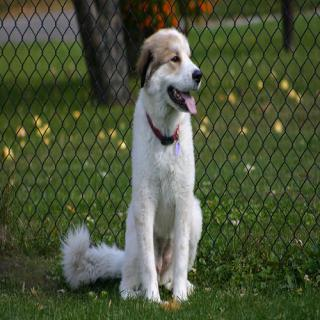dog: (138, 27, 202, 311)
